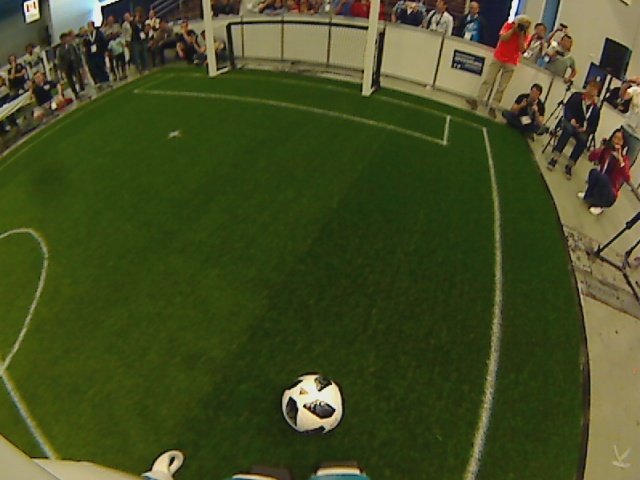ball: (278, 371, 344, 438)
